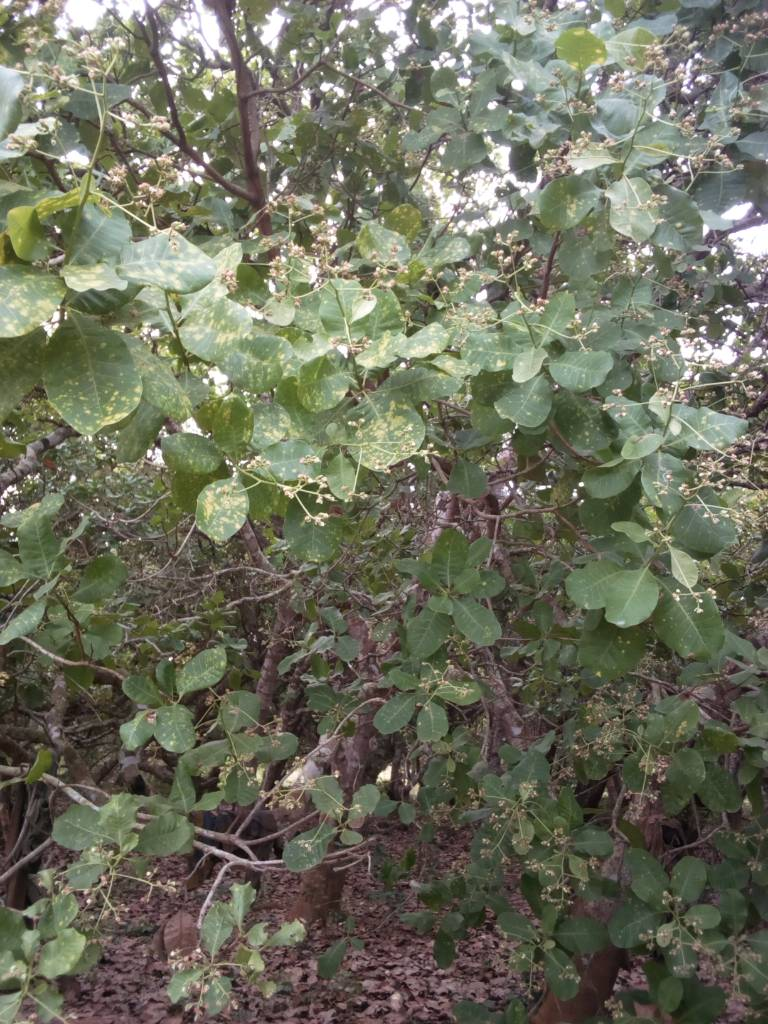Carence minérale: (41, 307, 149, 446), (343, 388, 437, 496), (181, 469, 283, 555), (163, 296, 263, 374), (146, 425, 241, 494), (2, 257, 68, 353), (542, 333, 627, 400), (211, 339, 304, 398), (10, 499, 75, 582), (672, 394, 743, 464), (351, 208, 413, 277), (229, 399, 302, 457), (553, 19, 614, 80), (177, 644, 233, 710), (399, 319, 458, 375), (424, 228, 480, 278)
